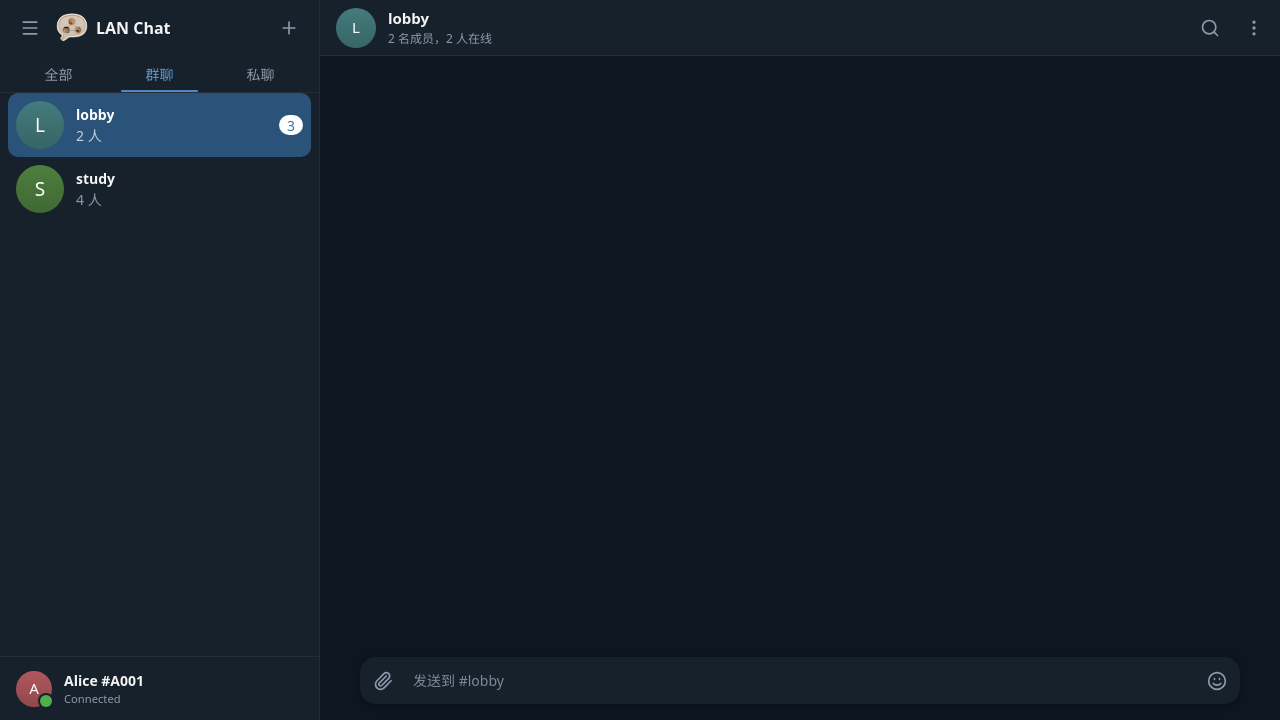
WorkspacePage › opens the info panel with the member list from the header
Click the button with aria-label "会话信息" at {"x": 356, "y": 28}, box top-left (328, 3), bottom-right (1184, 52)
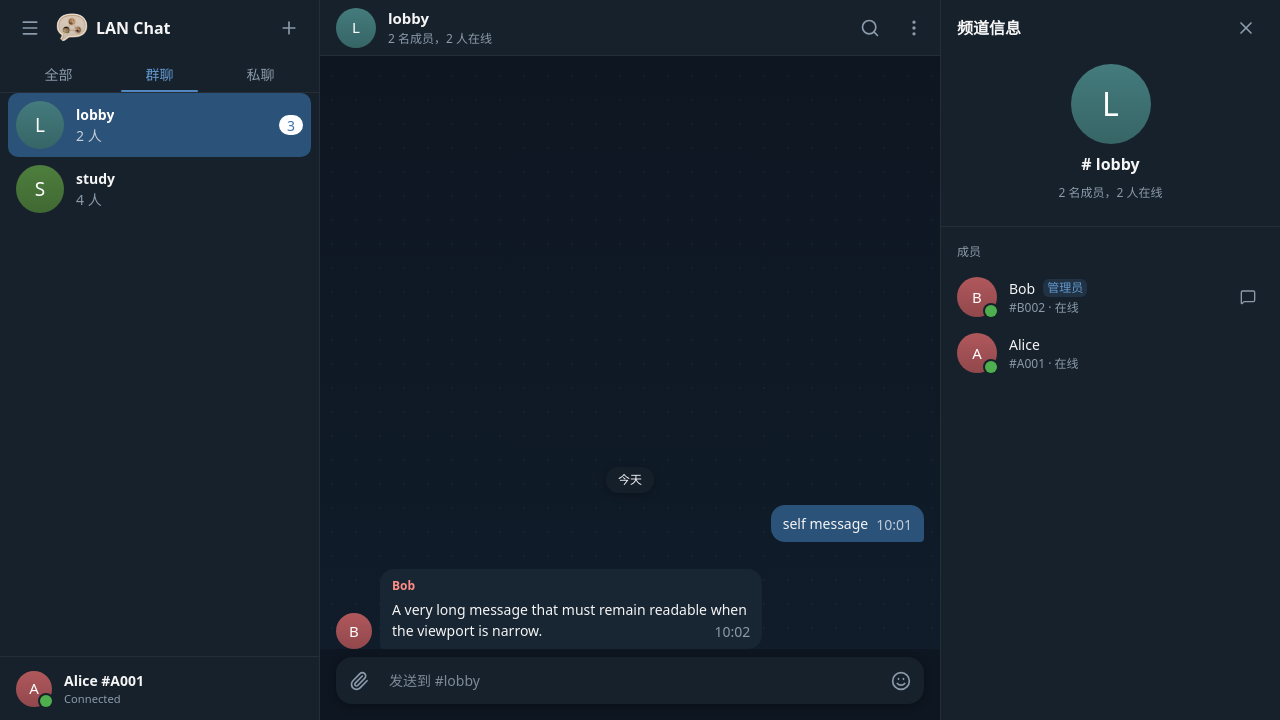
Check: the text "Bob" next to "管理员" is shown, box top-left (1009, 278), bottom-right (1035, 298)
